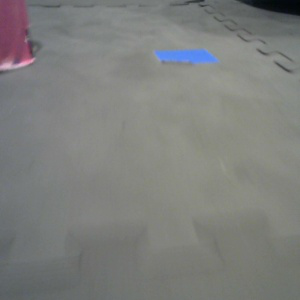middle: (1, 1, 37, 72)
